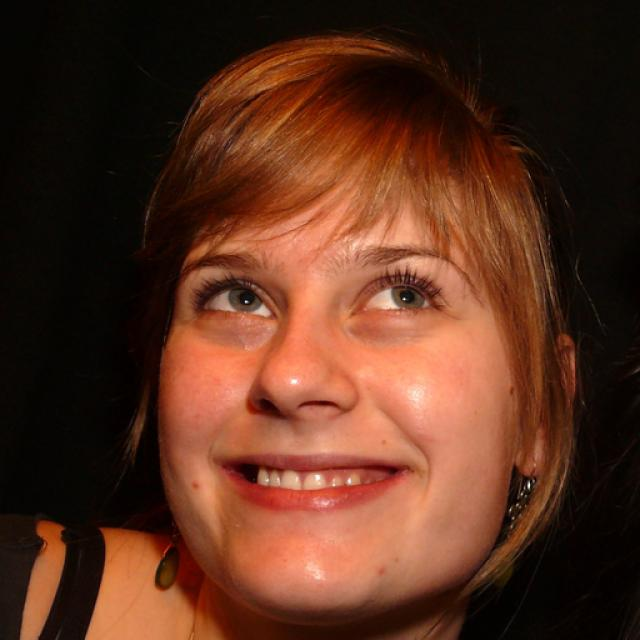Acne: (367, 555, 389, 585), (185, 471, 204, 496)
